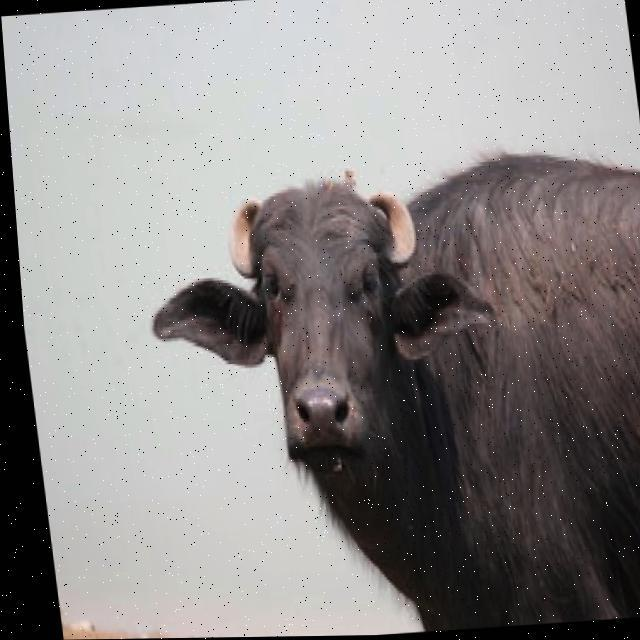Buffalo: (128, 137, 640, 638)
